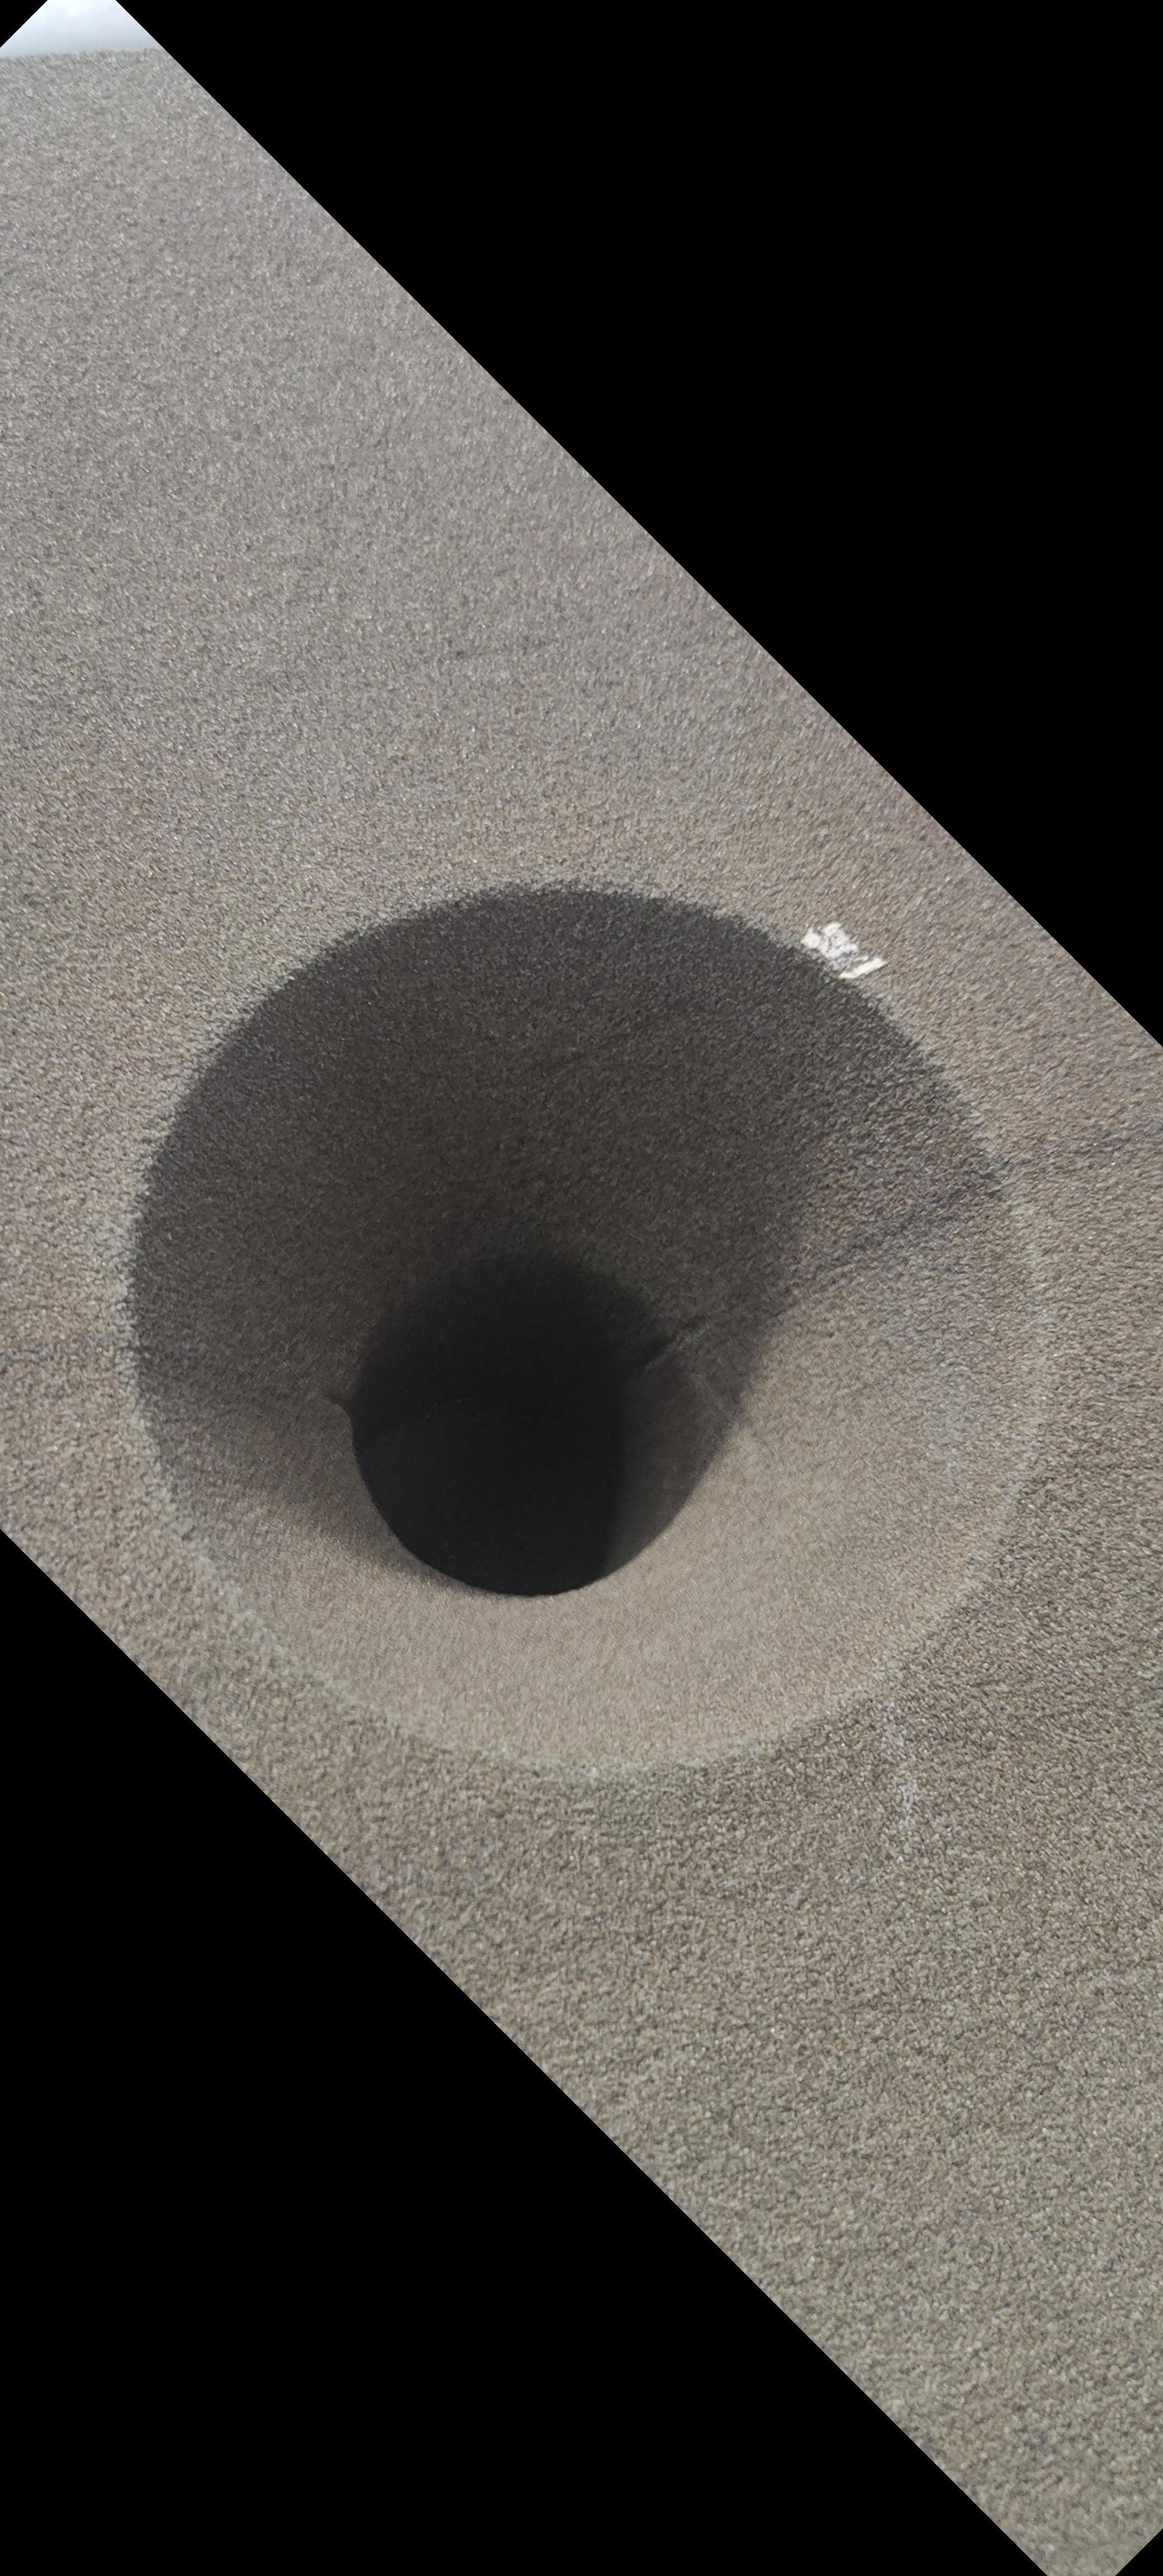pouring hole: (108, 881, 1032, 1783)
